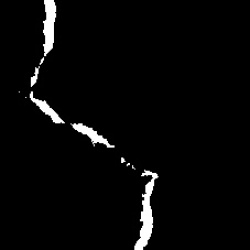crack: (30, 1, 56, 87), (135, 172, 159, 248), (30, 91, 65, 123), (72, 123, 114, 146), (119, 157, 133, 168)
